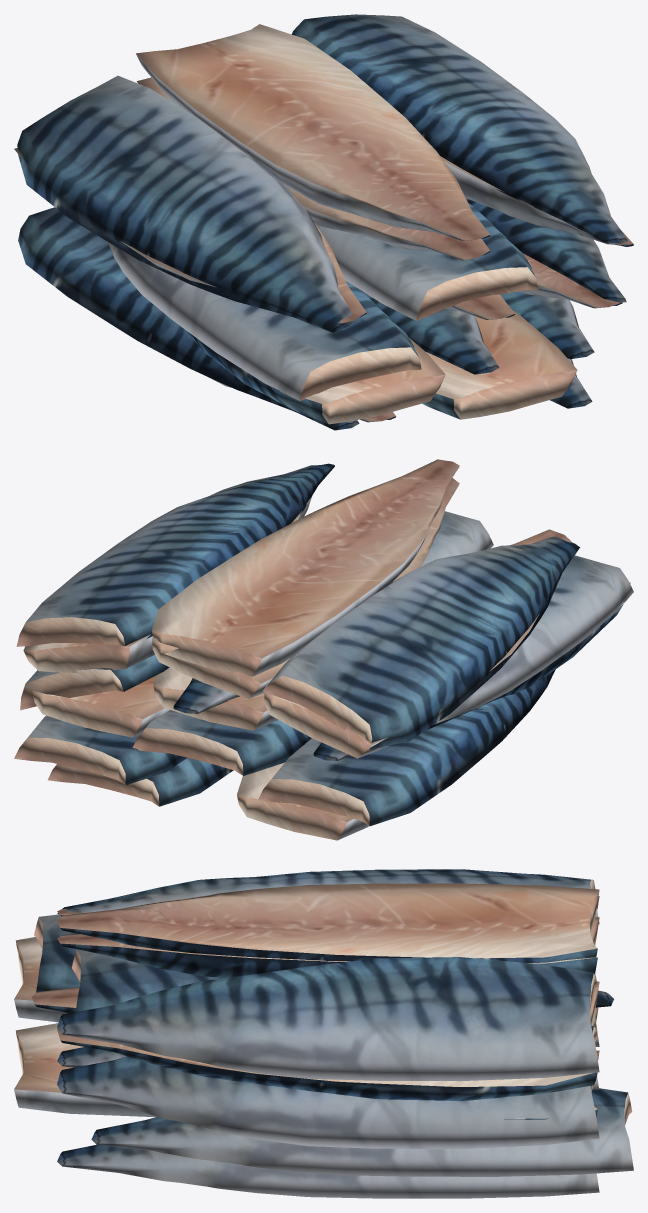
Rendered from Kesilmiş balıklar.fbx.
3 renders of one model, top to bottom at view 1: azimuth 30°, elevation 25°; view 2: azimuth 150°, elevation 25°; view 3: azimuth 270°, elevation 25°, orthographic. The views are drawn at different scales.
Visible parts, largest first — view 1: uskumru_kesilmis17, uskumru_kesilmis15, uskumru_kesilmis10, uskumru_kesilmis4, uskumru_kesilmis13, uskumru_kesilmis3, uskumru_kesilmis6, uskumru_kesilmis11, uskumru_kesilmis7, uskumru_kesilmis16, uskumru_kesilmis5, uskumru_kesilmis14 (+4 smaller); view 2: uskumru_kesilmis17, uskumru_kesilmis15, uskumru_kesilmis4, uskumru_kesilmis10, uskumru_kesilmis7, uskumru_kesilmis5, uskumru_kesilmis8, uskumru_kesilmis2, uskumru_kesilmis1, uskumru_kesilmis14, uskumru_kesilmis13, uskumru_kesilmis11 (+4 smaller); view 3: uskumru_kesilmis17, uskumru_kesilmis11, uskumru_kesilmis5, uskumru_kesilmis2, uskumru_kesilmis14, uskumru_kesilmis15, uskumru_kesilmis16, uskumru_kesilmis3, uskumru_kesilmis13, uskumru_kesilmis10, uskumru_kesilmis6, uskumru_kesilmis7 (+1 smaller).
Part boxes in pixels (x1,y1,x2,y2): uskumru_kesilmis17: (136,14,627,243); uskumru_kesilmis15: (17,75,355,332); uskumru_kesilmis10: (107,241,421,400); uskumru_kesilmis4: (18,207,359,430); uskumru_kesilmis13: (316,203,538,320); uskumru_kesilmis3: (422,309,577,419); uskumru_kesilmis6: (187,331,445,424); uskumru_kesilmis11: (466,198,626,302); uskumru_kesilmis7: (361,290,499,374); uskumru_kesilmis16: (136,77,490,260); uskumru_kesilmis5: (500,291,594,359); uskumru_kesilmis14: (440,156,633,246); uskumru_kesilmis17: (16,459,459,676); uskumru_kesilmis15: (263,536,579,749); uskumru_kesilmis4: (258,669,555,826); uskumru_kesilmis10: (313,555,633,760); uskumru_kesilmis7: (132,710,311,775); uskumru_kesilmis5: (14,715,186,785); uskumru_kesilmis8: (32,676,169,737); uskumru_kesilmis2: (48,757,233,806); uskumru_kesilmis1: (237,762,368,840); uskumru_kesilmis14: (23,496,311,672); uskumru_kesilmis13: (173,511,493,713); uskumru_kesilmis11: (20,655,169,710); uskumru_kesilmis17: (57,883,599,1081); uskumru_kesilmis11: (57,1026,599,1148); uskumru_kesilmis5: (91,1088,633,1176); uskumru_kesilmis2: (57,1144,599,1198); uskumru_kesilmis14: (57,981,599,1100); uskumru_kesilmis15: (57,869,599,924); uskumru_kesilmis16: (57,917,599,977); uskumru_kesilmis3: (14,1023,156,1116); uskumru_kesilmis13: (71,949,613,1011); uskumru_kesilmis10: (34,914,79,991); uskumru_kesilmis6: (14,937,67,1022); uskumru_kesilmis7: (57,1016,599,1089).
Size of the model in its own units: 56.07 by 25.46 by 72.26.
1 material, 1 textured.
